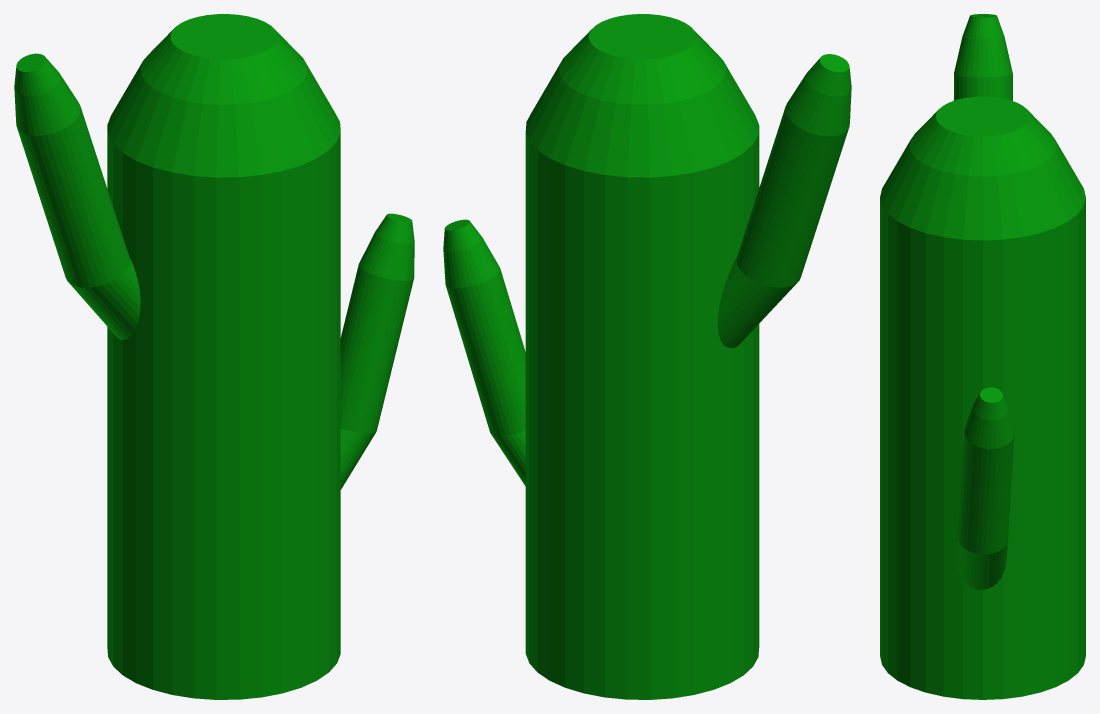
File: cactus.glb
3 renders of one model, left to right at view 1: azimuth 30°, elevation 25°; view 2: azimuth 150°, elevation 25°; view 3: azimuth 270°, elevation 25°, orthographic. The views are drawn at different scales.
Parts seen in each view (by area): view 1: Cactus; view 2: Cactus; view 3: Cactus.
Boxes of the visible parts, bbox=[...] form: Cactus: bbox=[14, 14, 414, 699]; Cactus: bbox=[443, 14, 851, 699]; Cactus: bbox=[880, 14, 1085, 699].
Size of the model in its own units: 1.85 by 2.84 by 0.9426.
